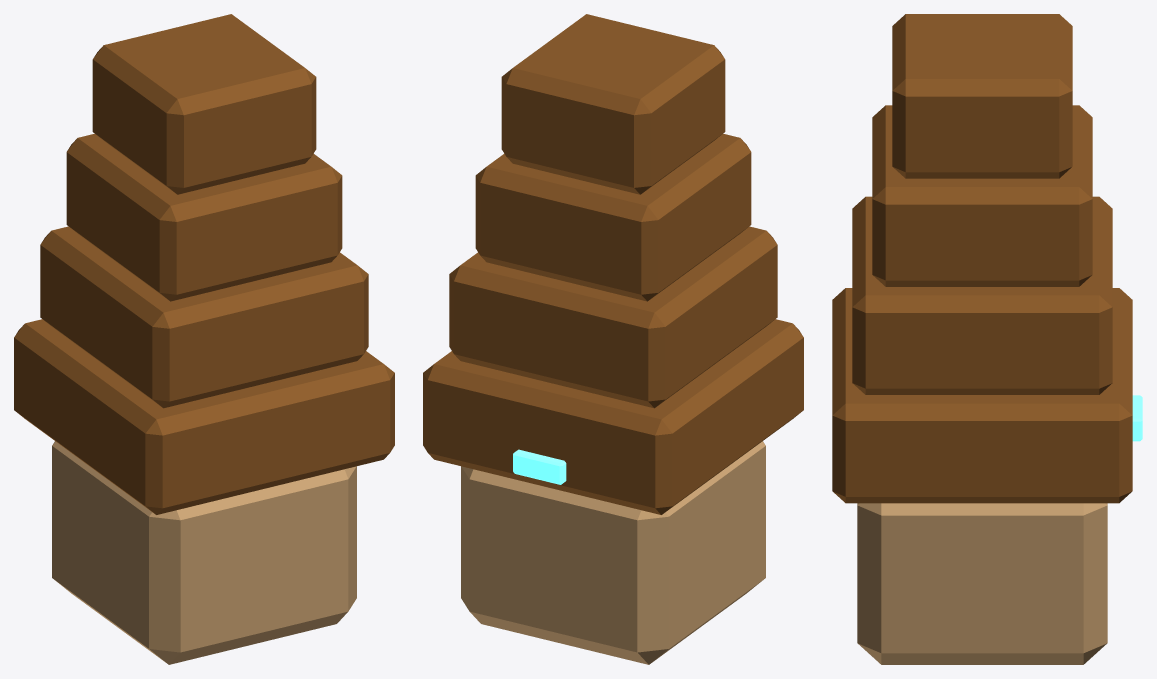
File: flagship_props_006.glb
The picture shows the model from 3 angles, left to right: view 1: azimuth 30°, elevation 25°; view 2: azimuth 150°, elevation 25°; view 3: azimuth 270°, elevation 25°; orthographic projection. The views are drawn at different scales.
Parts seen in each view (by area): view 1: Prop_BBIsle_Beehive_02; view 2: Prop_BBIsle_Beehive_02; view 3: Prop_BBIsle_Beehive_02.
Part boxes in pixels (bbox=[...]): Prop_BBIsle_Beehive_02: bbox=[14, 14, 394, 664]; Prop_BBIsle_Beehive_02: bbox=[423, 14, 803, 664]; Prop_BBIsle_Beehive_02: bbox=[832, 14, 1142, 664].
Size of the model in its own units: 0.6 by 1.27 by 0.62.
